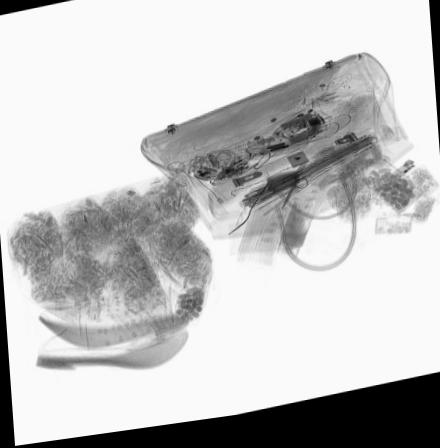Scissors: (281, 183, 309, 217)
